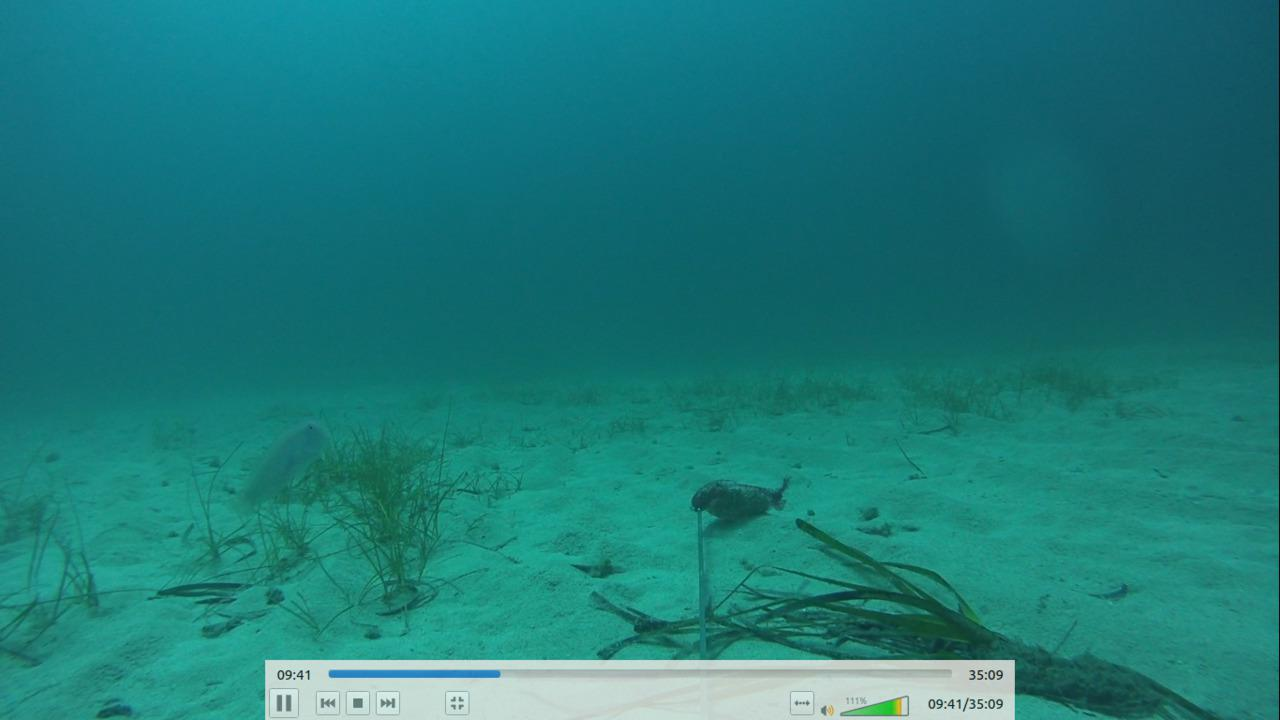raor: (229, 418, 334, 511)
